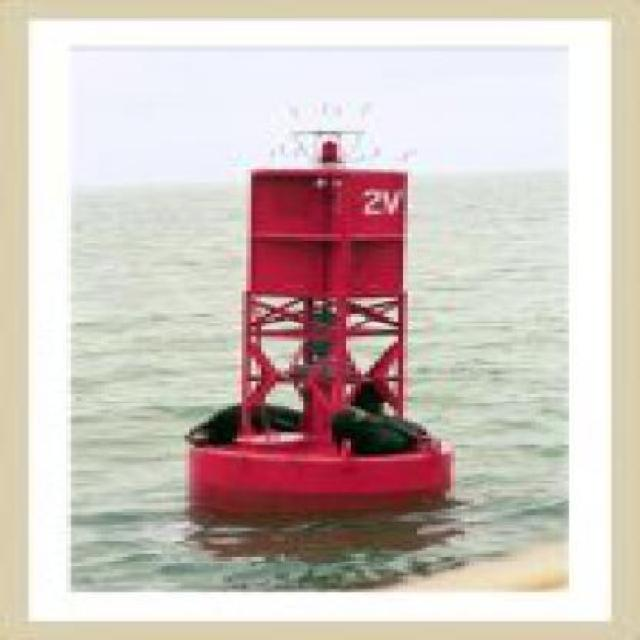buoy: (172, 91, 466, 514)
